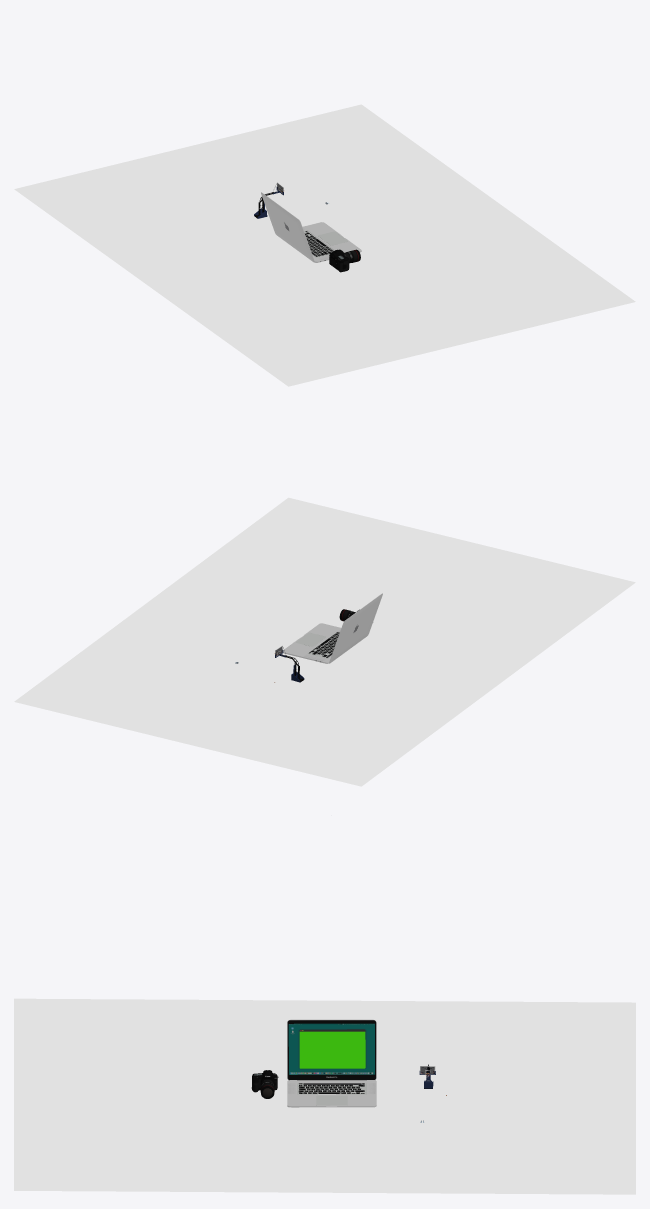
Rendered from macbook-transformed.glb.
3 views of the same model, one above another, from view 1: azimuth 30°, elevation 25°; view 2: azimuth 150°, elevation 25°; view 3: azimuth 270°, elevation 25° (orthographic). The views are drawn at different scales.
Visible parts, largest first — view 1: floor, macbook_base, camera_base; view 2: floor, macbook_base; view 3: floor, macbook_base, video_1, screenPlane, camera_base.
Boxes of the visible parts, x1=… form: floor: x1=14, y1=104, x2=635, y2=386; macbook_base: x1=261, y1=192, x2=361, y2=262; camera_base: x1=329, y1=249, x2=360, y2=272; floor: x1=14, y1=497, x2=635, y2=786; macbook_base: x1=283, y1=593, x2=382, y2=663; floor: x1=14, y1=998, x2=635, y2=1194; macbook_base: x1=287, y1=1019, x2=376, y2=1107; video_1: x1=299, y1=1029, x2=365, y2=1068; screenPlane: x1=288, y1=1023, x2=374, y2=1074; camera_base: x1=251, y1=1070, x2=278, y2=1098.
Bounding box in the file's own units: 1821 × 1192 × 2491.
14 materials, 14 textured.
